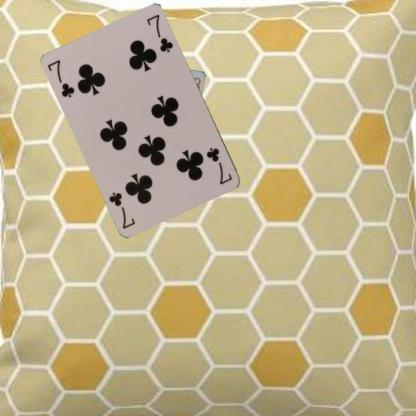7c: (45, 58, 76, 100), (204, 144, 234, 186)
